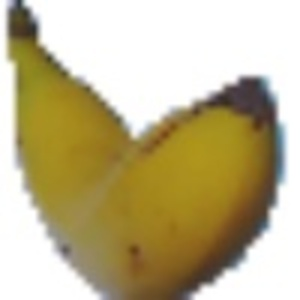banana: (3, 3, 285, 294)
